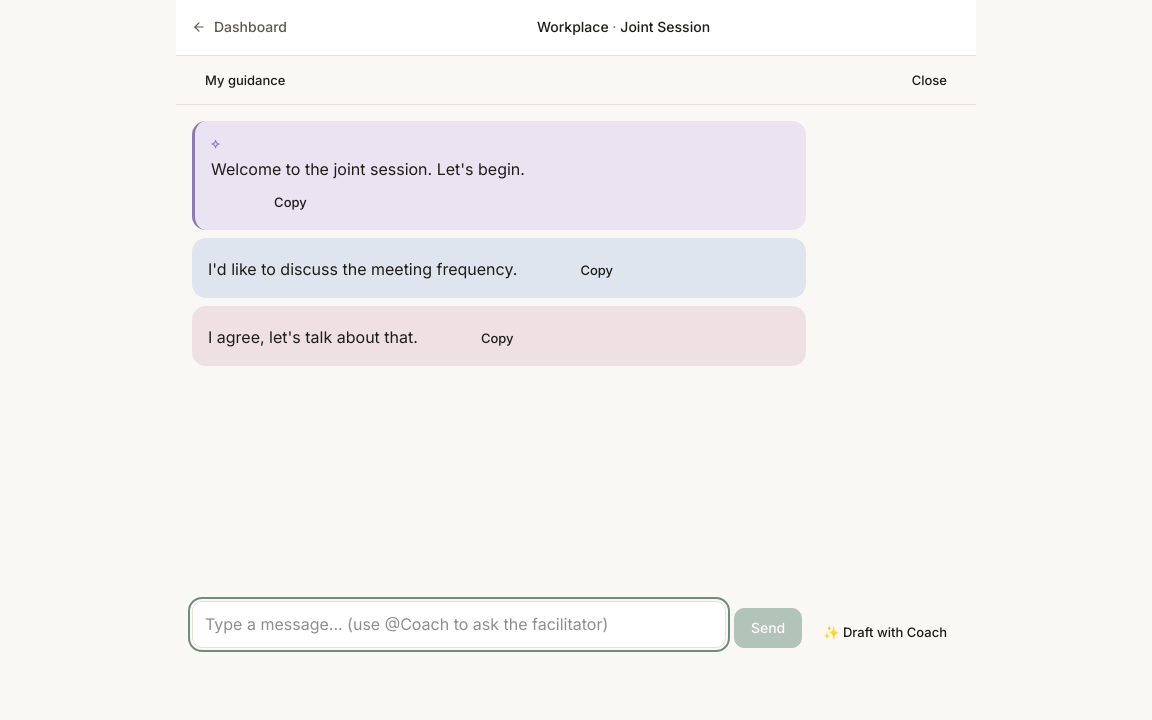
Test case: AC: Top nav: 'My guidance' link opens synthesis panel, 'Close' button opens closure modal › clicking 'Close' button opens closure modal
Click the button "Close" at (929, 80), box [899,64,960,96]
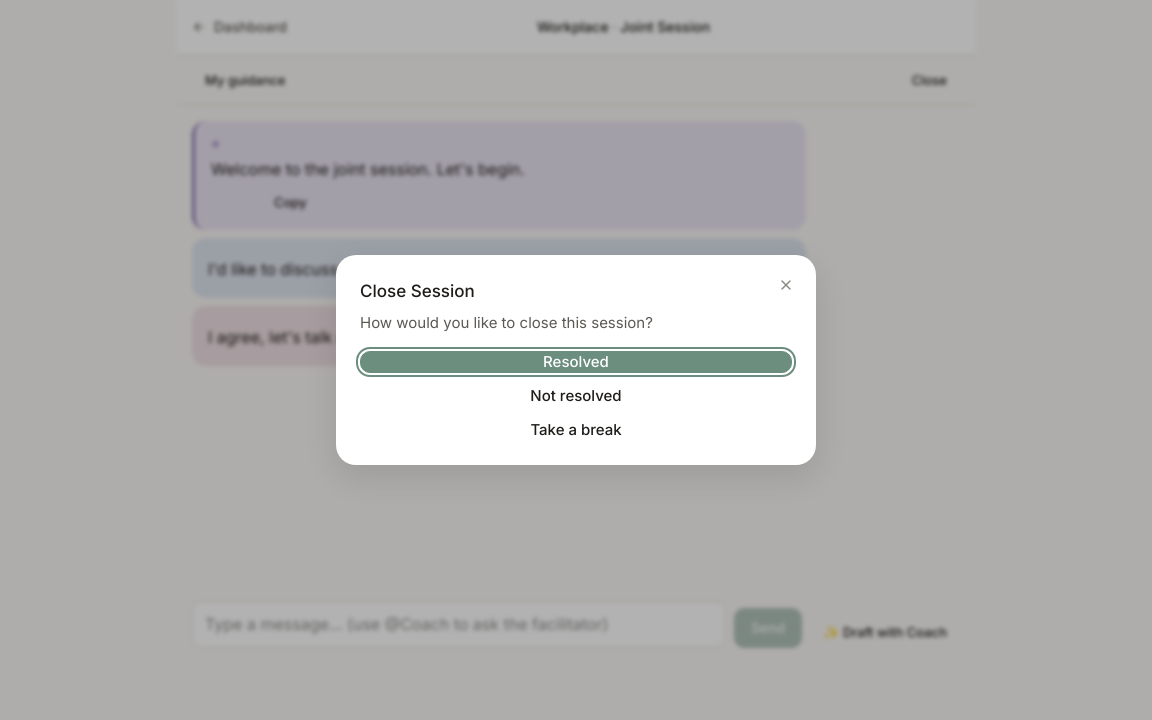
Now the dialog is shown, box [336,255,816,465]
